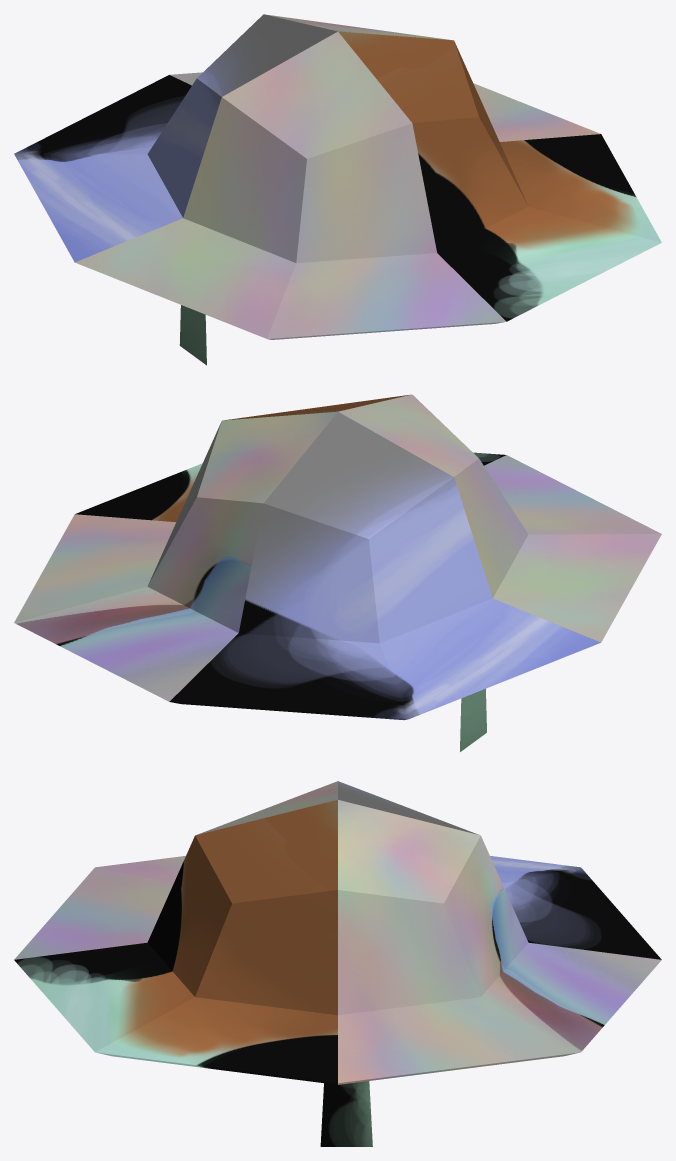
File: Skeleton Disc Helmet.fbx
3 renders of one model, top to bottom at view 1: azimuth 30°, elevation 25°; view 2: azimuth 150°, elevation 25°; view 3: azimuth 270°, elevation 25°, orthographic. The views are drawn at different scales.
Parts seen in each view (by area): view 1: Skeleton_Head_Disc_Helmet; view 2: Skeleton_Head_Disc_Helmet; view 3: Skeleton_Head_Disc_Helmet.
Boxes of the visible parts, left/top/right/bottom form: Skeleton_Head_Disc_Helmet: left=14, top=14, right=661, bottom=365; Skeleton_Head_Disc_Helmet: left=14, top=394, right=661, bottom=751; Skeleton_Head_Disc_Helmet: left=14, top=781, right=661, bottom=1146.
Size of the model in its own units: 1.02 by 0.5453 by 1.14.
